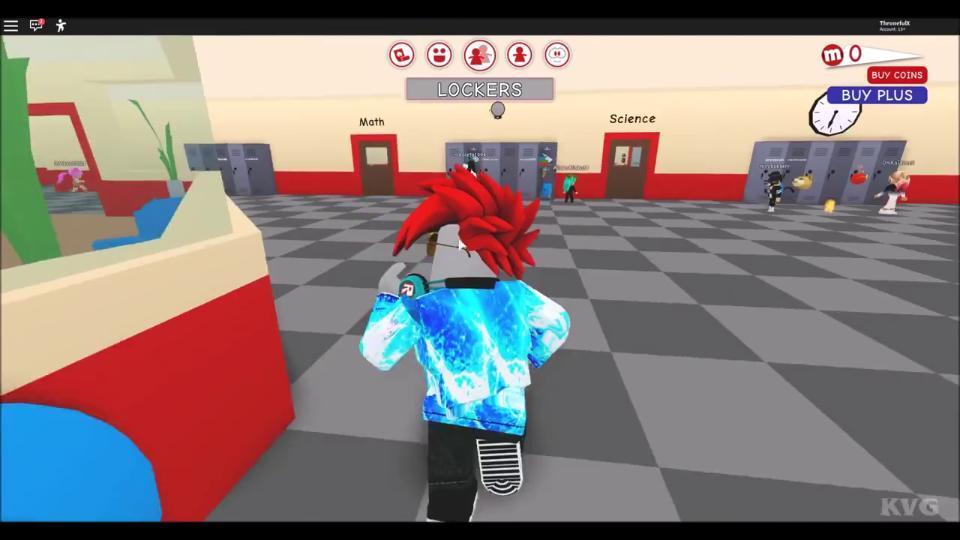Character: (360, 162, 570, 520), (875, 168, 910, 215), (766, 172, 786, 211), (563, 173, 578, 202)
